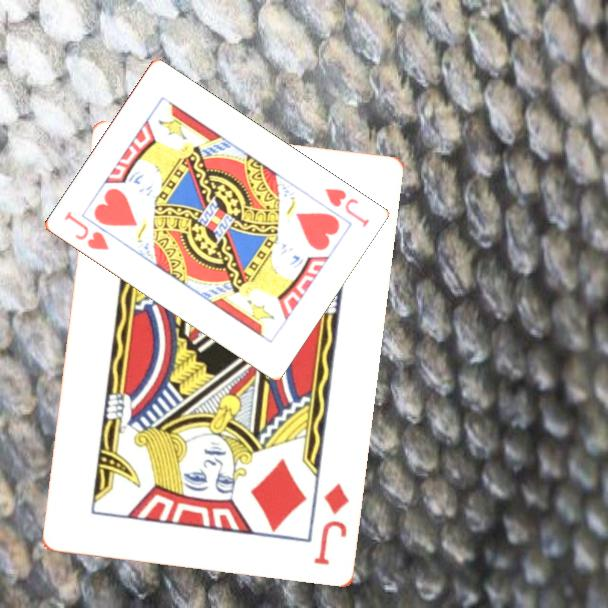d11: (310, 480, 352, 569)
h11: (60, 208, 112, 253), (321, 185, 372, 230)
